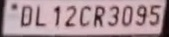character: (92, 5, 105, 28), (34, 4, 47, 26), (78, 5, 91, 27), (148, 3, 161, 25), (64, 4, 76, 27), (20, 4, 32, 26), (107, 5, 119, 27), (121, 5, 133, 26), (134, 5, 146, 26), (53, 5, 60, 25)
